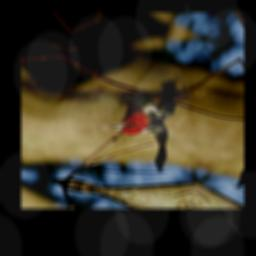Woodpecker: (84, 68, 199, 178)
